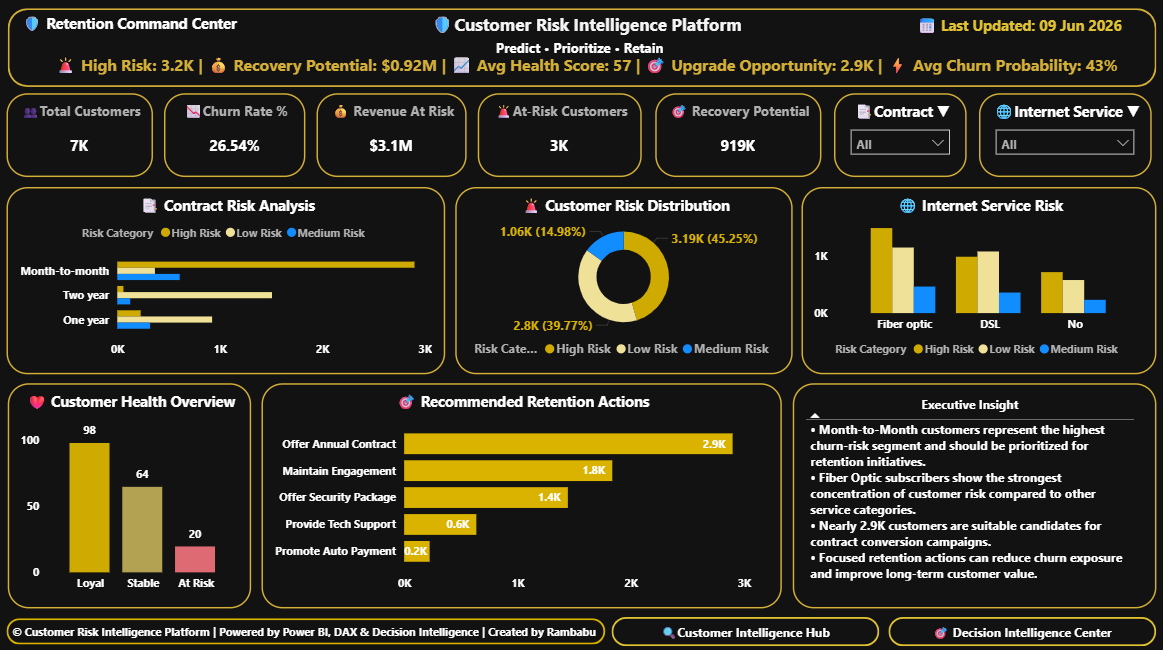

This screenshot's page, from the dashboard's own definition file:
{"tool":"powerbi","page":{"name":"🛡️Executive Command Center","canvas":[1280,720],"ordinal":0},"visuals":[{"type":"textbox","box":[9.6,12.3,1270.7,38.4],"z":0},{"type":"cardVisual","fields":{"Data":["Measure.Executive Intelligence Bar"]},"box":[9.6,41.2,1270.7,64.5],"z":1000},{"type":"shape","box":[9.6,12.3,1261.1,86.4],"z":2000},{"type":"cardVisual","title":"👥Total Customers","fields":{"Data":["Measure.Total Customers"]},"box":[8.2,105.7,160.5,91.9],"z":3000},{"type":"cardVisual","title":"📉Churn Rate %","fields":{"Data":["Measure.Churn Rate %"]},"box":[181.1,105.7,155.1,91.9],"z":4000},{"type":"cardVisual","title":"🚨At-Risk Customers","fields":{"Data":["Measure.High Risk Customers"]},"box":[525.6,105.7,179.8,91.9],"z":5000},{"type":"cardVisual","title":"💰 Revenue At Risk","fields":{"Data":["Measure.Revenue At Risk"]},"box":[348.5,105.7,164.7,91.9],"z":6000},{"type":"cardVisual","title":"🎯 Recovery Potential","fields":{"Data":["Measure.Revenue Recovery Potential"]},"box":[720.4,105.7,182.5,91.9],"z":7000},{"type":"slicer","title":"📑Contract ▼","fields":{"Values":["Telco-Customer-Churn.Contract"]},"box":[916.6,105.7,145.5,91.9],"z":8000},{"type":"slicer","title":"🌐Internet Service ▼","fields":{"Values":["Telco-Customer-Churn.InternetService"]},"box":[1075.8,105.7,189.4,91.9],"z":9000},{"type":"clusteredBarChart","title":"📑 Contract Risk Analysis","fields":{"Category":["Telco-Customer-Churn.Contract"],"Y":["CountNonNull(Telco-Customer-Churn.customerID)"],"Series":["Telco-Customer-Churn.Risk Category"]},"box":[8.2,208.6,481.6,205.8],"z":10000},{"type":"donutChart","title":"🚨 Customer Risk Distribution","fields":{"Category":["Telco-Customer-Churn.Risk Category"],"Y":["CountNonNull(Telco-Customer-Churn.customerID)"]},"box":[500.9,208.6,370.5,205.8],"z":11000},{"type":"clusteredColumnChart","title":"🌐 Internet Service Risk","fields":{"Category":["Telco-Customer-Churn.InternetService"],"Y":["CountNonNull(Telco-Customer-Churn.customerID)"],"Series":["Telco-Customer-Churn.Risk Category"]},"box":[881,208.6,389.7,205.8],"z":12000},{"type":"barChart","title":"🎯 Recommended Retention Actions","fields":{"Category":["Telco-Customer-Churn.AI Recommendation"],"Y":["CountNonNull(Telco-Customer-Churn.customerID)"]},"box":[288.2,424,570.8,247],"z":13000},{"type":"clusteredColumnChart","title":"❤️ Customer Health Overview","fields":{"Category":["Telco-Customer-Churn.Customer Segment"],"Y":["Avg(Telco-Customer-Churn.Customer Health Score)"]},"box":[9.6,424,267.6,247],"z":14000},{"type":"tableEx","title":"🧠 Executive Intelligence Summary","fields":{"Values":["Measure.Executive Insight"]},"box":[871.4,424,399.3,247],"z":15000},{"type":"textbox","box":[9.6,682,695.7,28.8],"z":16000},{"type":"shape","box":[8.2,682,657.3,28.8],"z":17000},{"type":"textbox","box":[540.7,41.2,362.3,37],"z":18000},{"type":"cardVisual","fields":{"Data":["Measure.Last Updated"]},"box":[975.6,0,289.5,60.4],"z":19000},{"type":"textbox","box":[20.6,12.3,378.7,38.4],"z":20000},{"type":"pageNavigator","box":[672.4,680.6,598.3,32.9],"z":21000}]}

Visuals, with their boxes in screenshot pixels (x1, y1, x2, y2), scaled from the page's 1280x720 canvas onto the 1163x650 screenshot:
textbox: l=9, t=11, r=1162, b=46
cardVisual - Measure.Executive Intelligence Bar: l=9, t=37, r=1162, b=95
shape: l=9, t=11, r=1155, b=89
"👥Total Customers" cardVisual: l=7, t=95, r=153, b=178
"📉Churn Rate %" cardVisual: l=165, t=95, r=305, b=178
"🚨At-Risk Customers" cardVisual: l=478, t=95, r=641, b=178
"💰 Revenue At Risk" cardVisual: l=317, t=95, r=466, b=178
"🎯 Recovery Potential" cardVisual: l=655, t=95, r=820, b=178
"📑Contract ▼" slicer: l=833, t=95, r=965, b=178
"🌐Internet Service ▼" slicer: l=977, t=95, r=1150, b=178
"📑 Contract Risk Analysis" clusteredBarChart: l=7, t=188, r=445, b=374
"🚨 Customer Risk Distribution" donutChart: l=455, t=188, r=792, b=374
"🌐 Internet Service Risk" clusteredColumnChart: l=800, t=188, r=1155, b=374
"🎯 Recommended Retention Actions" barChart: l=262, t=383, r=780, b=606
"❤️ Customer Health Overview" clusteredColumnChart: l=9, t=383, r=252, b=606
"🧠 Executive Intelligence Summary" tableEx: l=792, t=383, r=1155, b=606
textbox: l=9, t=616, r=641, b=642
shape: l=7, t=616, r=605, b=642
textbox: l=491, t=37, r=820, b=71
cardVisual - Measure.Last Updated: l=886, t=0, r=1149, b=55
textbox: l=19, t=11, r=363, b=46
pageNavigator: l=611, t=614, r=1155, b=644
